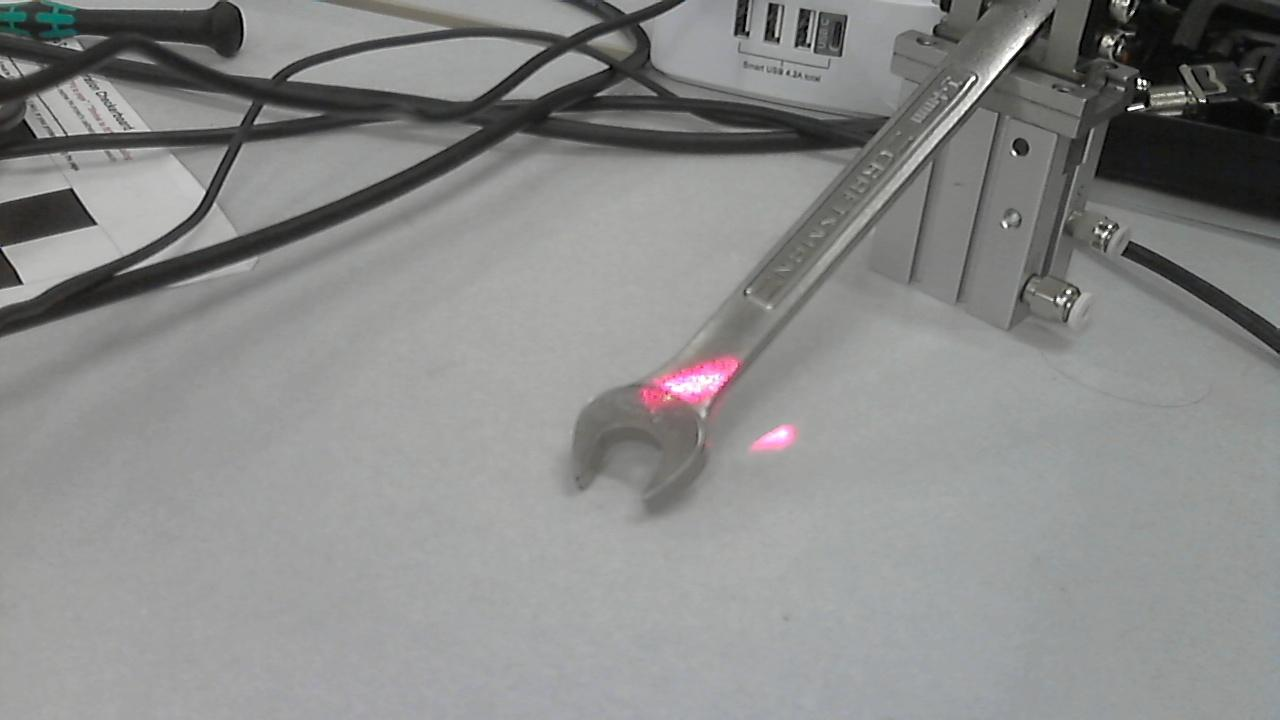Object combination wrench - Material metal- Pdfname faefasdffdaea: (640, 347, 743, 410)
